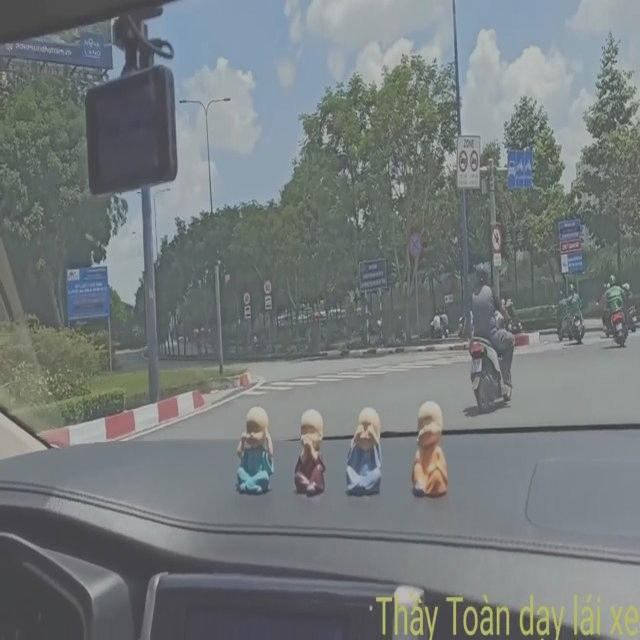Biển phụ: (491, 252, 501, 267), (265, 293, 273, 311), (243, 304, 251, 317)
Cấm các phương tiện hoạt động trong khung giờ cố định: (453, 128, 481, 191)
Cấm dừng - Cấm đỗ: (408, 228, 422, 260)
Cấm xe máy: (489, 224, 503, 251)
Giới hạn tốc độ: 60Km/h: (242, 289, 252, 306)
Giới hạn tốc độ: 80Km/h: (260, 269, 273, 295)
Khác: (64, 262, 111, 322), (556, 217, 585, 275), (354, 256, 391, 293)
Làn đường cho từng xe: (505, 144, 534, 189)
